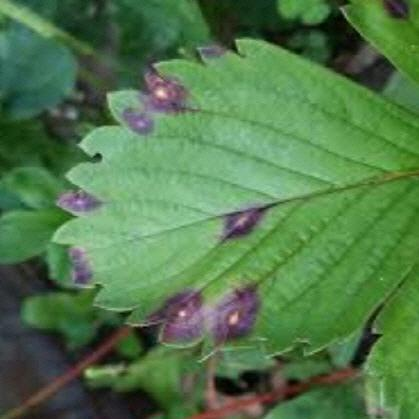Leaf Spot: (48, 39, 418, 362)
